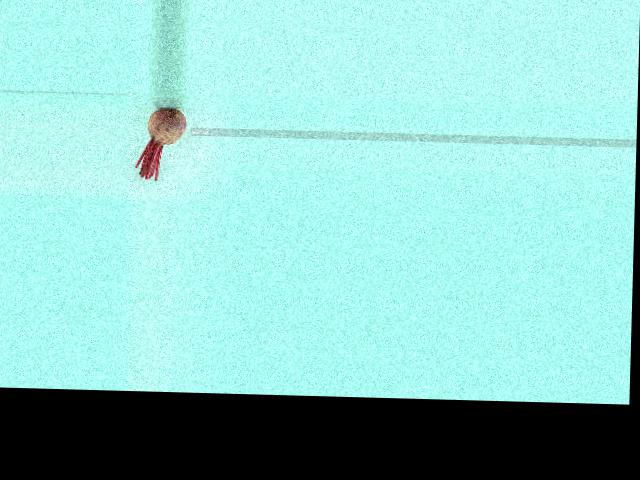beet: (135, 107, 187, 181)
